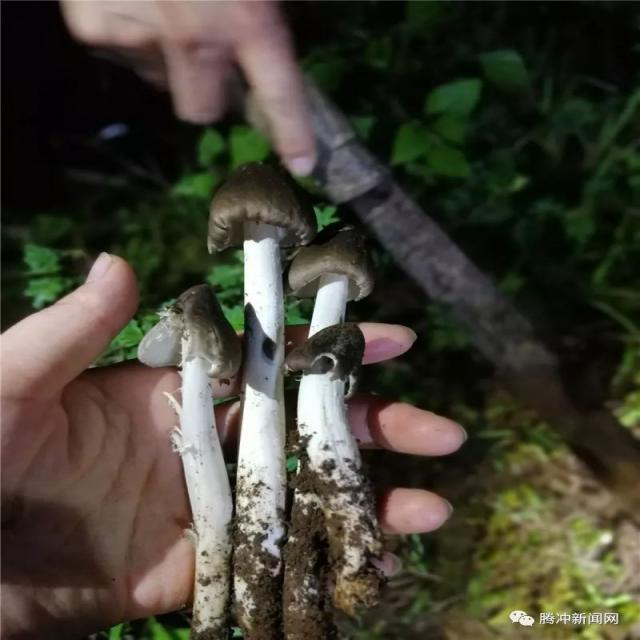Collybia albuminosa: (205, 164, 315, 640), (285, 224, 382, 617), (141, 279, 236, 629)
